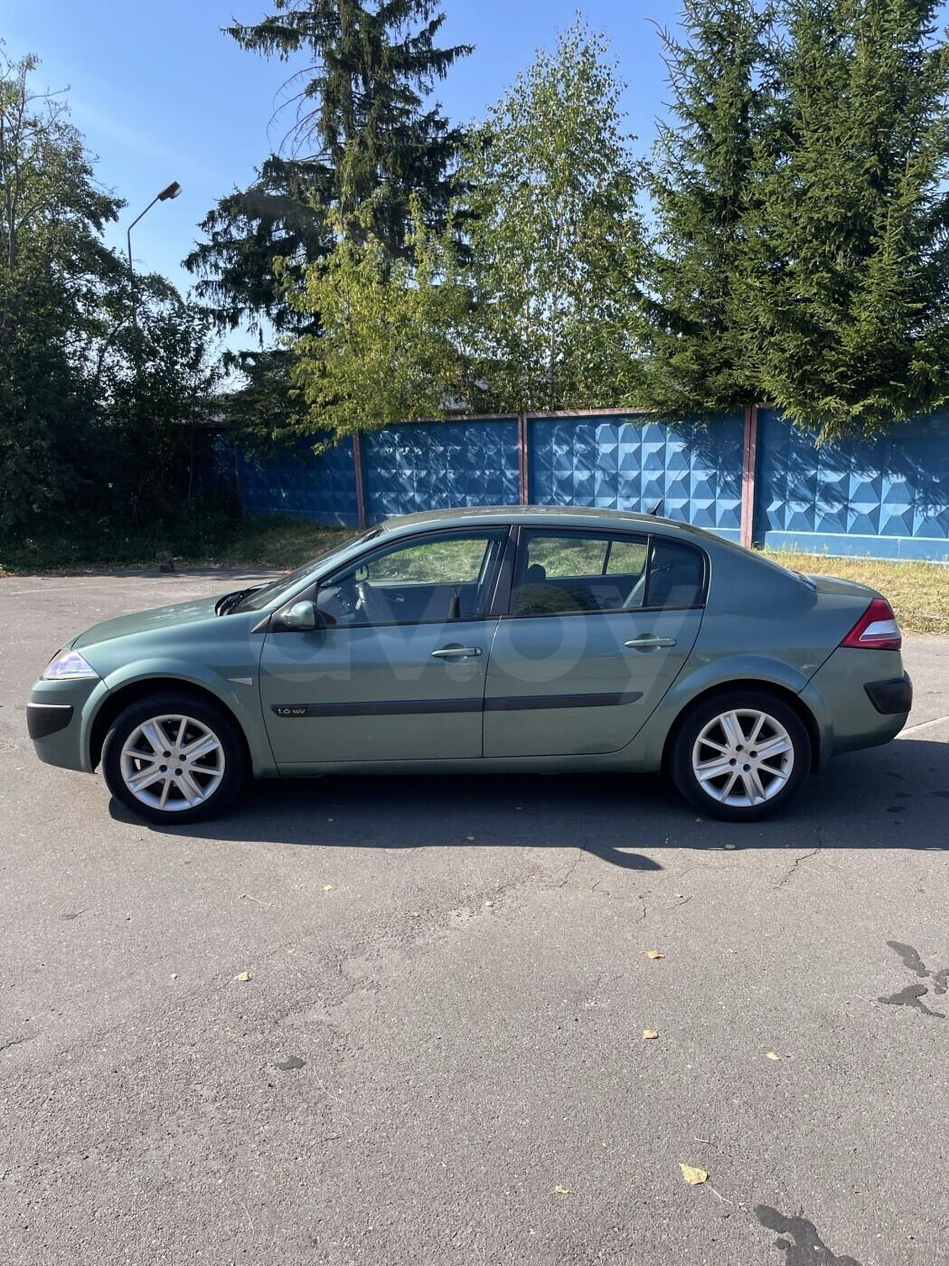Megane_2005-2009: (25, 503, 920, 850)
